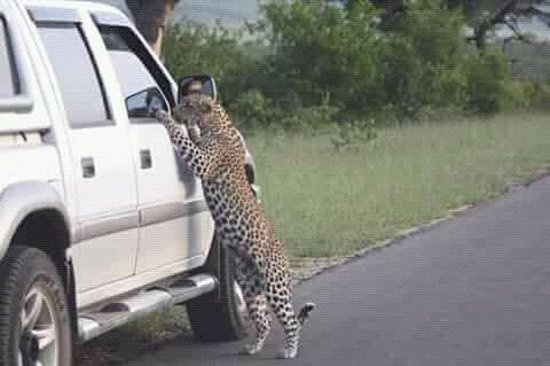leopard: (154, 90, 320, 361)
